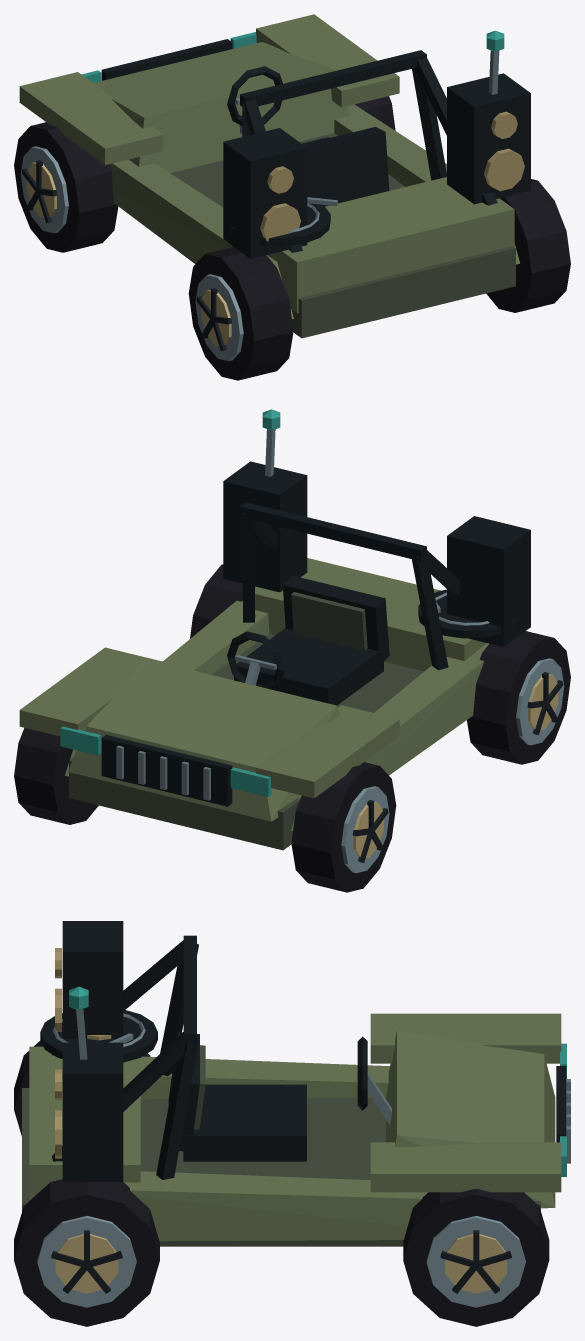
Rendered from kart.glb.
3 views of the same model, one above another, from view 1: azimuth 30°, elevation 25°; view 2: azimuth 150°, elevation 25°; view 3: azimuth 270°, elevation 25° (orthographic). The views are drawn at different scales.
Parts seen in each view (by area): view 1: identity-jeep-jeep-offroad-frame, identity-jeep-motif-speakers, wheel-rear-left, wheel-front-left, wheel-rear-right, identity-jeep-driver-cockpit, identity-jeep-motif-vinyl, identity-jeep-motif-antenna, wheel-front-right; view 2: identity-jeep-jeep-offroad-frame, identity-jeep-motif-speakers, identity-jeep-driver-cockpit, wheel-rear-left, wheel-front-left, wheel-front-right, wheel-rear-right, identity-jeep-motif-vinyl, identity-jeep-motif-antenna; view 3: identity-jeep-jeep-offroad-frame, wheel-rear-right, wheel-front-right, identity-jeep-motif-speakers, identity-jeep-driver-cockpit, identity-jeep-motif-vinyl, identity-jeep-motif-antenna, wheel-rear-left.
Boxes of the visible parts, box(x1,y1,x2,y2) form: identity-jeep-jeep-offroad-frame: box(19, 14, 519, 338); identity-jeep-motif-speakers: box(223, 73, 530, 258); wheel-rear-left: box(188, 247, 293, 380); wheel-front-left: box(14, 122, 118, 252); wheel-rear-right: box(486, 179, 570, 312); identity-jeep-driver-cockpit: box(227, 66, 389, 206); identity-jeep-motif-vinyl: box(229, 197, 337, 246); identity-jeep-motif-antenna: box(486, 30, 504, 94); wheel-front-right: box(355, 96, 395, 130); identity-jeep-jeep-offroad-frame: box(19, 502, 488, 850); identity-jeep-motif-speakers: box(223, 461, 530, 646); identity-jeep-driver-cockpit: box(227, 575, 389, 705); wheel-rear-left: box(467, 631, 570, 764); wheel-front-left: box(291, 762, 396, 892); wheel-front-right: box(14, 728, 98, 824); wheel-rear-right: box(190, 564, 242, 638); identity-jeep-motif-vinyl: box(418, 589, 519, 638); identity-jeep-motif-antenna: box(262, 409, 280, 476); identity-jeep-jeep-offroad-frame: box(22, 935, 570, 1246); wheel-rear-right: box(14, 1179, 159, 1326); wheel-front-right: box(403, 1188, 549, 1326); identity-jeep-motif-speakers: box(55, 921, 123, 1181); identity-jeep-driver-cockpit: box(168, 1031, 391, 1161); identity-jeep-motif-vinyl: box(40, 1010, 157, 1062); identity-jeep-motif-antenna: box(69, 986, 88, 1059); wheel-rear-left: box(14, 1040, 150, 1135).
Size of the model in its own units: 2.13 by 1.72 by 2.75.
